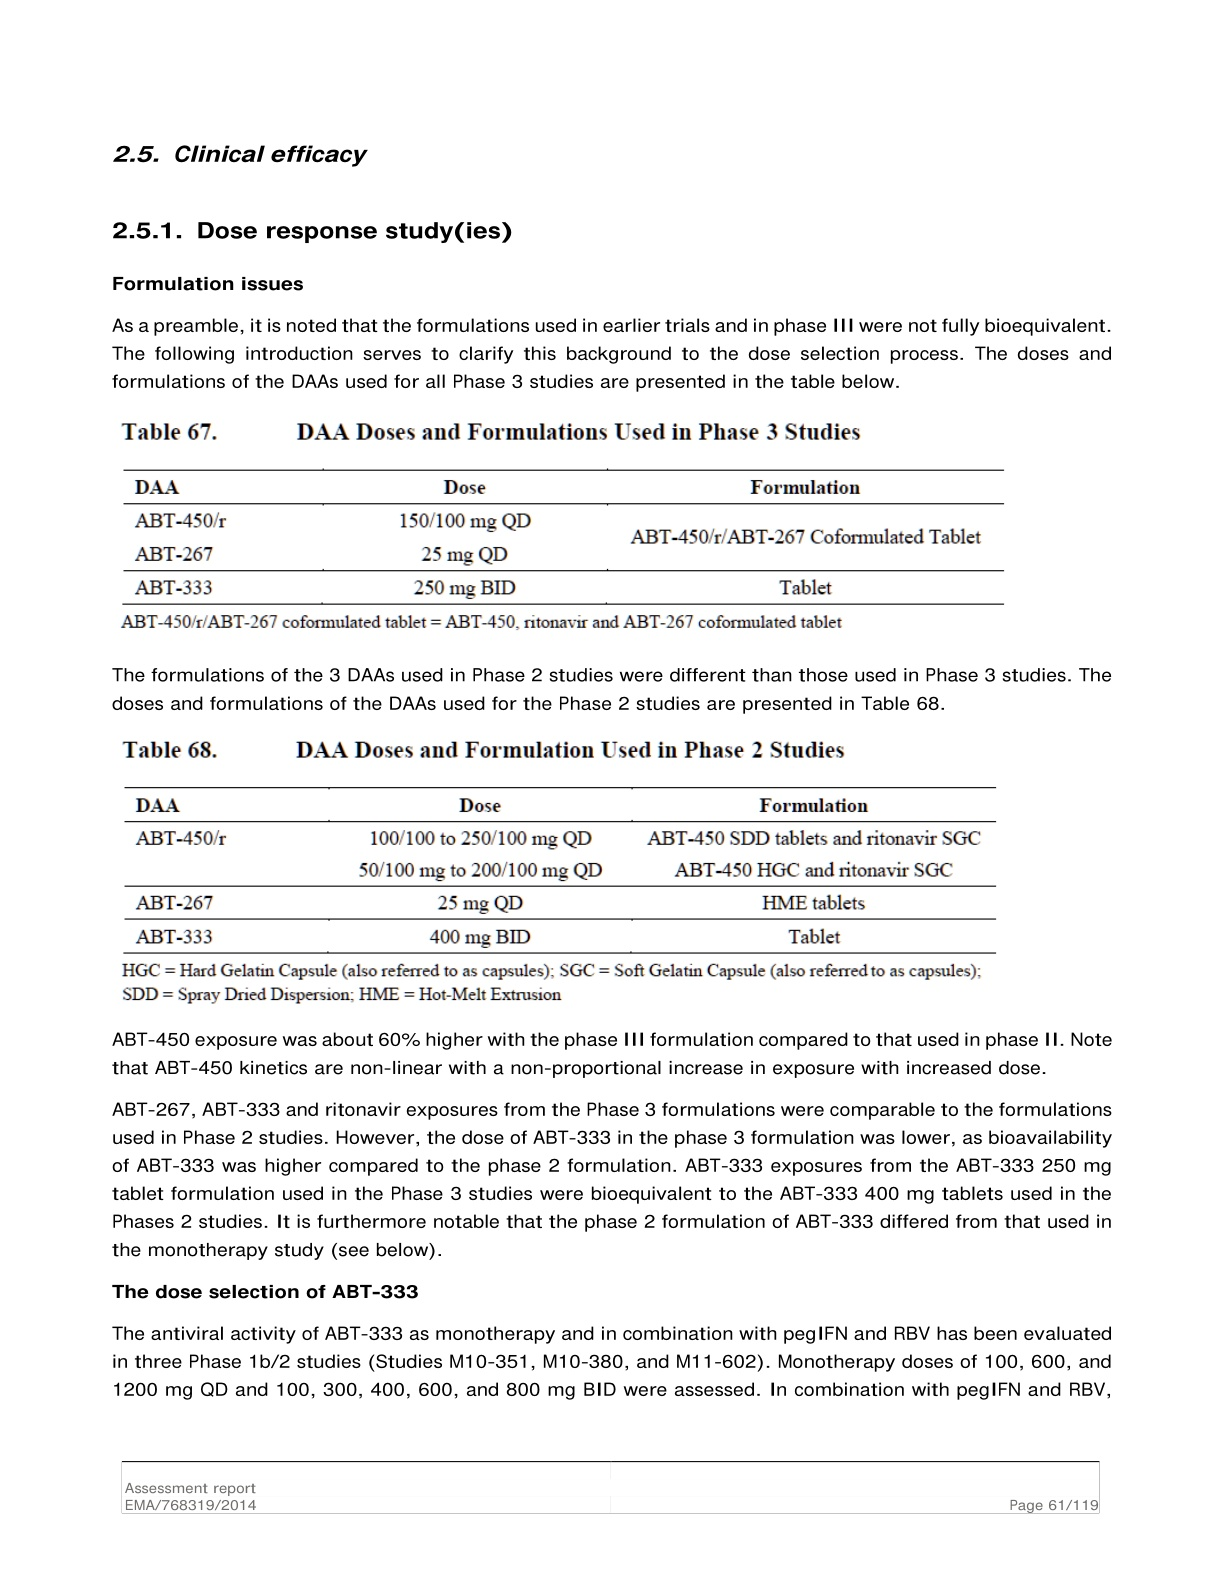partial_lined: (122, 786, 998, 955), (120, 468, 1004, 606)
